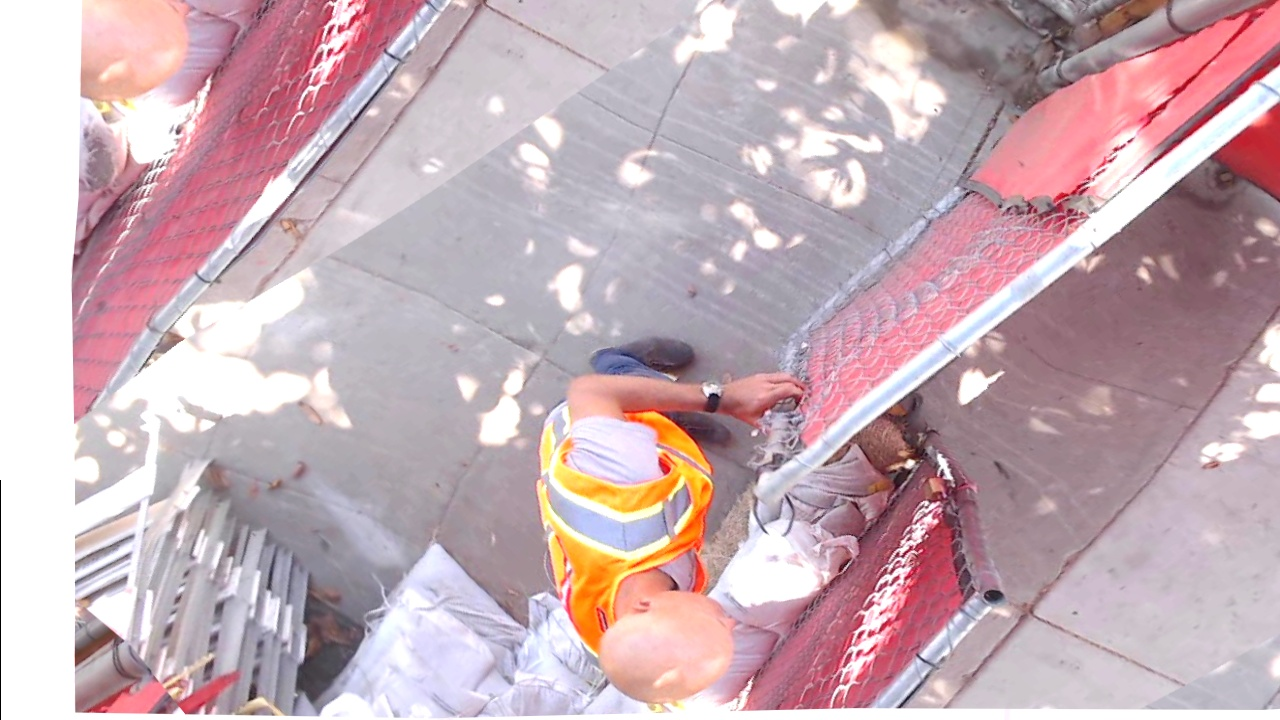hardhat: (731, 340, 921, 541)
person: (596, 240, 930, 604)
safetyvest: (614, 416, 888, 609)
